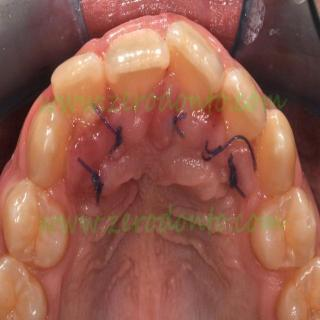maligned: (163, 19, 221, 121), (106, 32, 174, 118), (219, 57, 266, 157), (44, 52, 108, 124)
